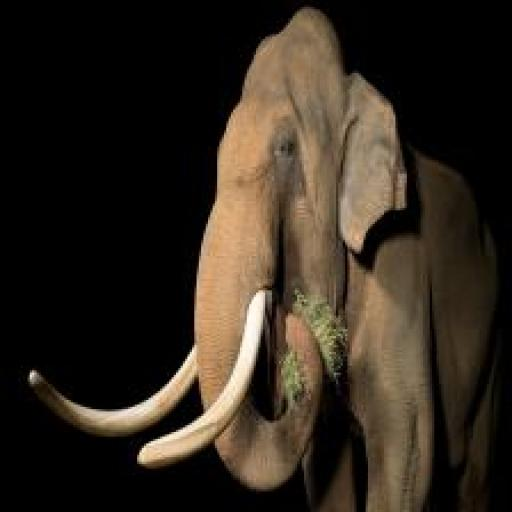Elephant: (138, 10, 501, 510)
